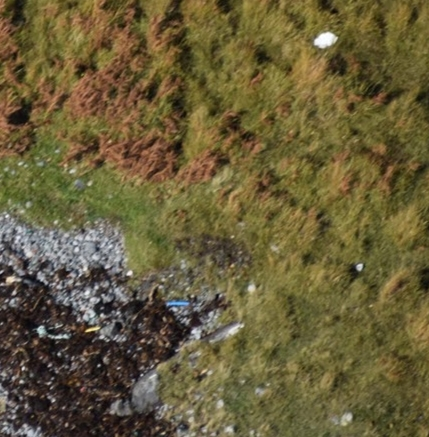scattered_barrel: (1, 266, 108, 343)
white_in_green: (293, 9, 357, 67), (149, 279, 209, 329)
